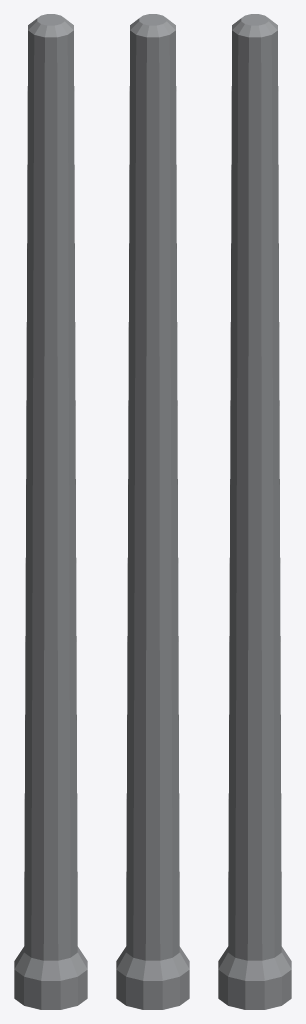
The model's file is SM_Street_TrafficSignalPost_Galv_01.gltf.
The picture shows the model from 3 angles, left to right: view 1: azimuth 30°, elevation 25°; view 2: azimuth 150°, elevation 25°; view 3: azimuth 330°, elevation 25°; orthographic projection.
Visible parts, largest first — view 1: SM_Street_TrafficSignalPost_Galv_01; view 2: SM_Street_TrafficSignalPost_Galv_01; view 3: SM_Street_TrafficSignalPost_Galv_01.
Part boxes in pixels (box(x1,y1,x2,y2)): SM_Street_TrafficSignalPost_Galv_01: box(14, 14, 87, 1009); SM_Street_TrafficSignalPost_Galv_01: box(116, 14, 189, 1009); SM_Street_TrafficSignalPost_Galv_01: box(218, 14, 291, 1009).
Size of the model in its own units: 0.2511 by 3.68 by 0.2511.
Materials: 1 (1 with a texture image).
